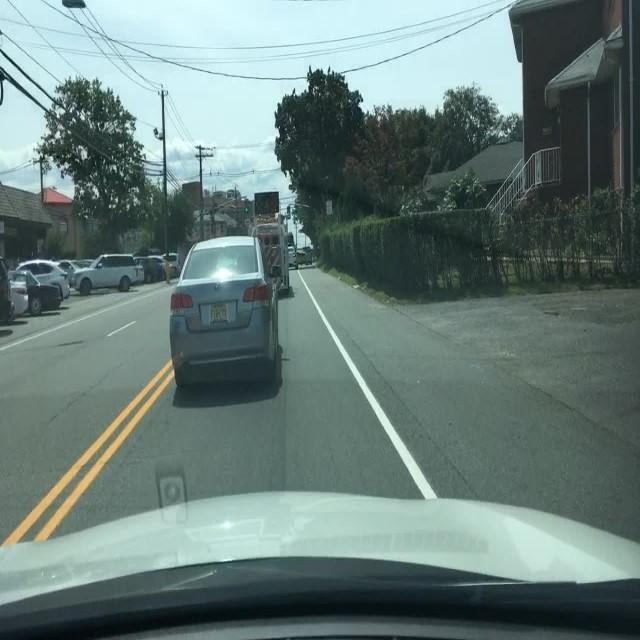normal: (164, 234, 286, 393), (77, 255, 144, 294), (14, 261, 73, 301), (135, 257, 167, 283)
